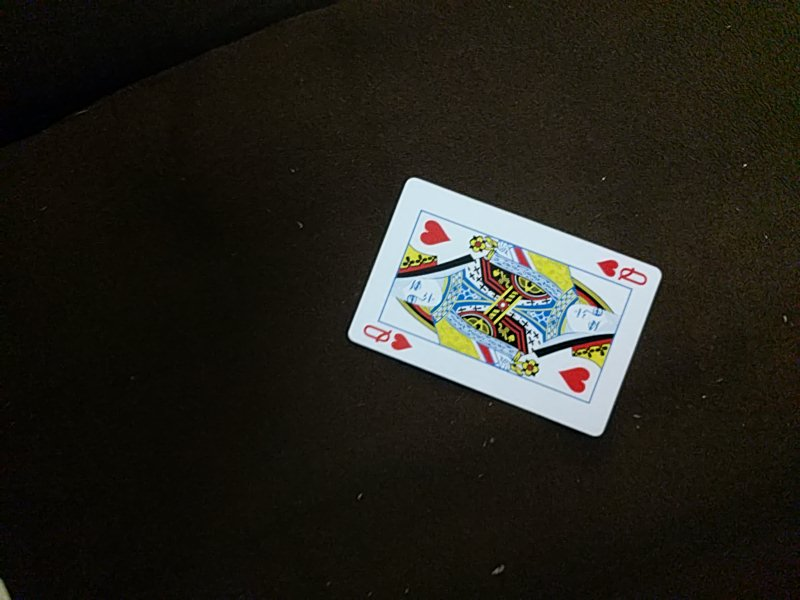Hearts: (343, 173, 662, 442)
